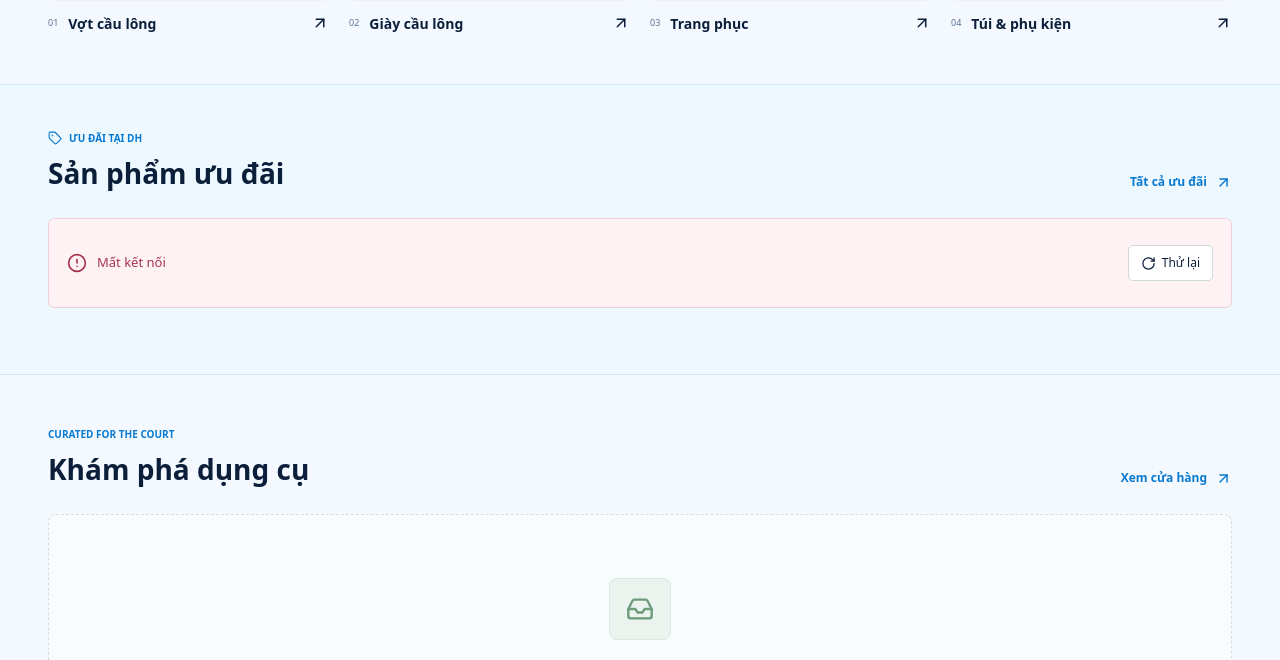
Test case: retries only the failed offer query and leaves other sections available
(page scrolled)
Expected: the message shows "Mất kết nối", x1=97 y1=253 x2=166 y2=271
Step 1. Click the button "Thử lại" → (1170, 263), box x1=1128 y1=245 x2=1213 y2=281
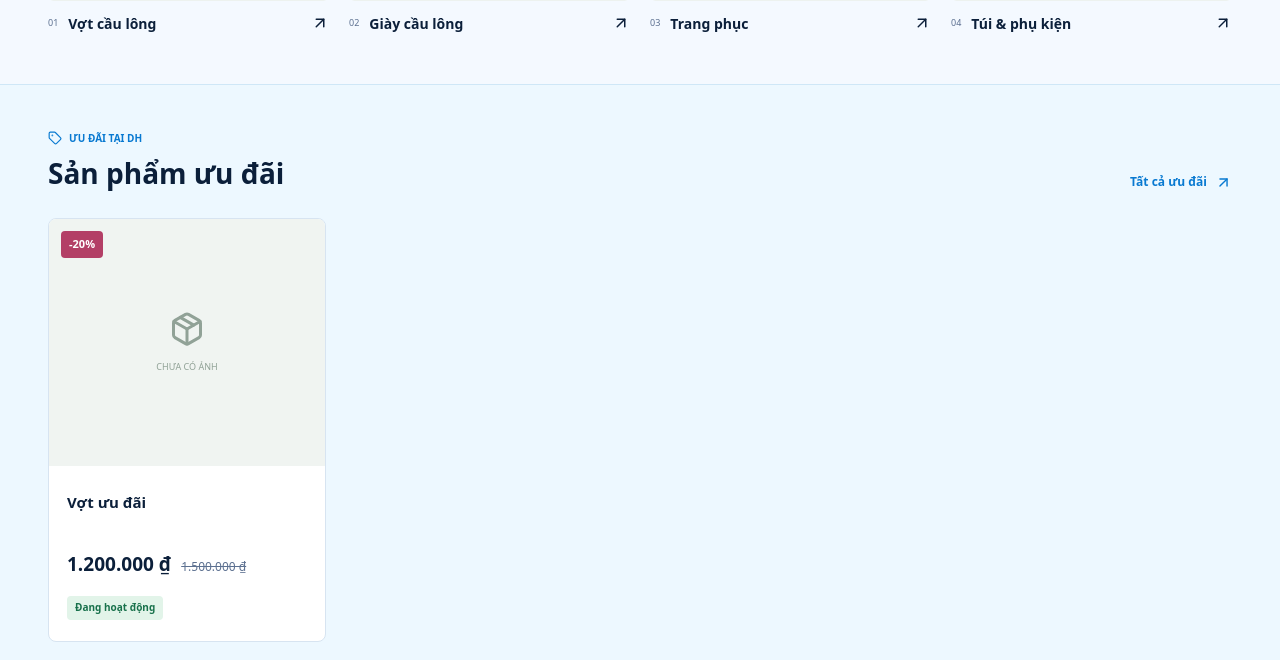
Expected: the heading "Vợt ưu đãi" is shown, x1=67 y1=492 x2=146 y2=512
